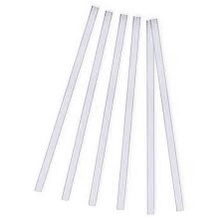drinking_straw: (30, 1, 104, 196), (148, 15, 187, 215), (112, 13, 144, 214)
